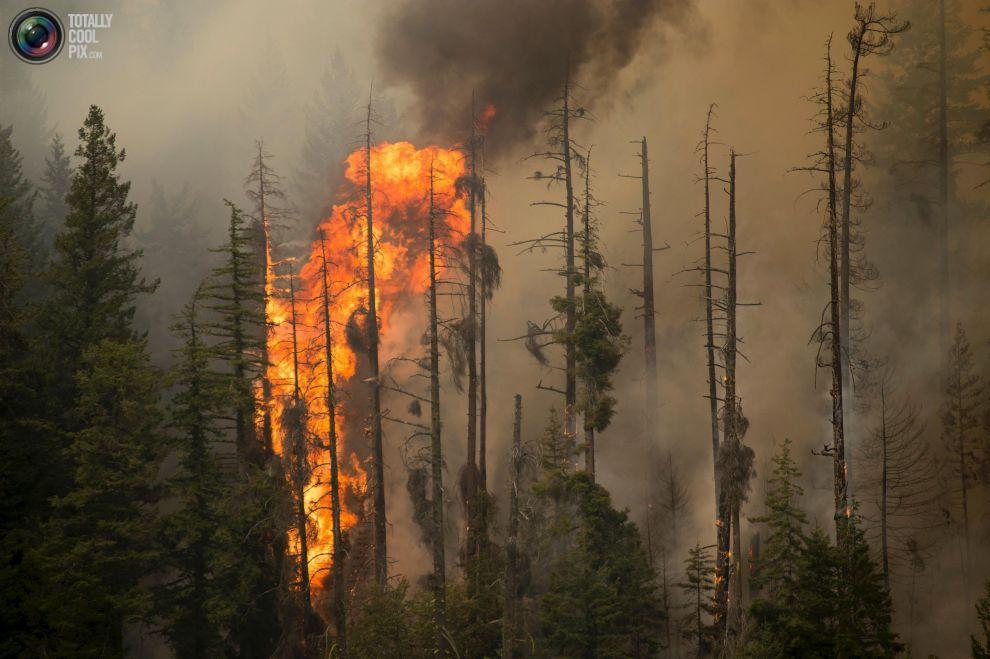Fire: (201, 117, 489, 592)
